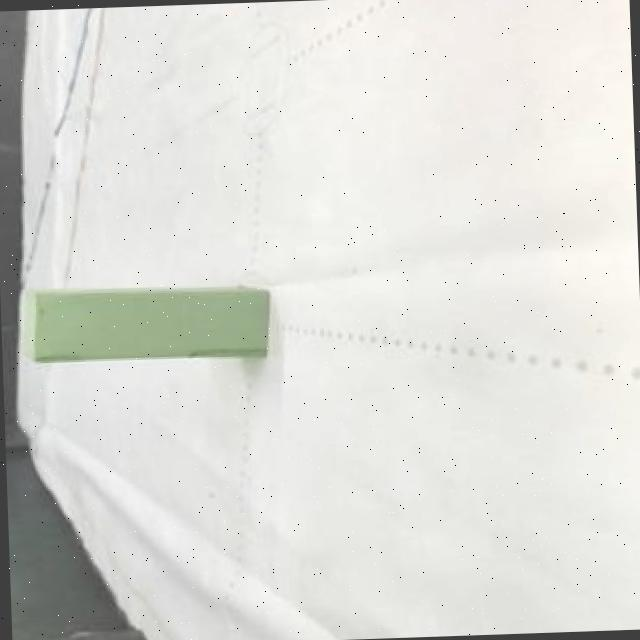greenbox: (14, 278, 269, 366)
